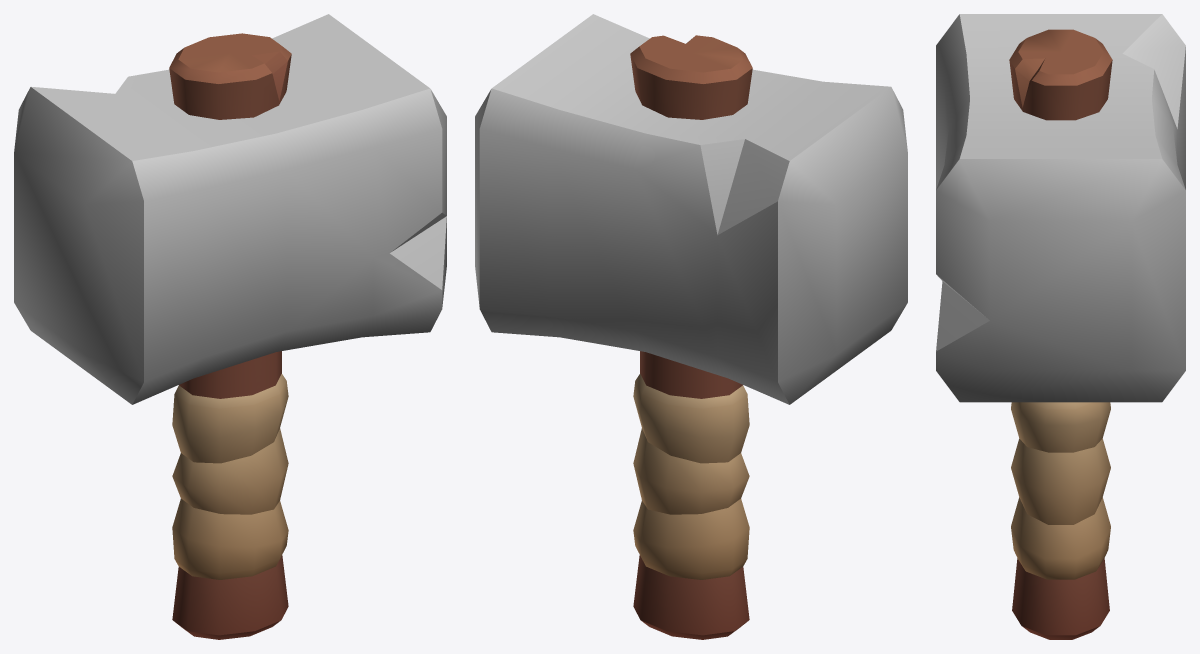
The model's file is hammer.glb.
3 views of the same model, side by side, from view 1: azimuth 30°, elevation 25°; view 2: azimuth 150°, elevation 25°; view 3: azimuth 270°, elevation 25° (orthographic).
Parts seen in each view (by area): view 1: hammer; view 2: hammer; view 3: hammer.
Part boxes in pixels (x1,y1,x2,y2): hammer: [14, 14, 446, 639]; hammer: [475, 14, 907, 639]; hammer: [936, 14, 1185, 639].
Bounding box in the file's own units: 0.5434 × 0.8234 × 0.3261.
